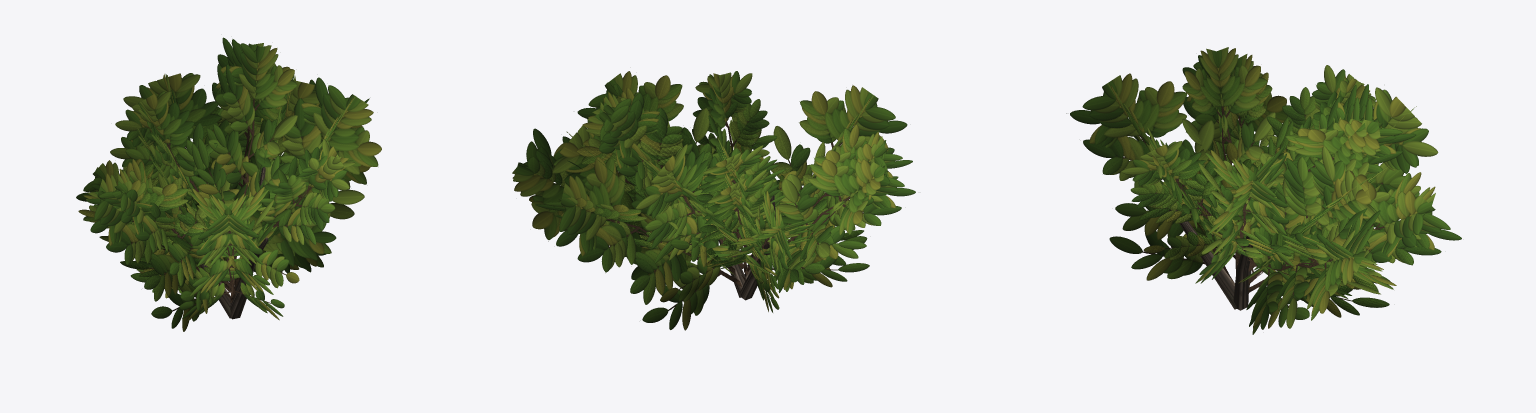
File: bush.gltf
3 renders of one model, left to right at view 1: azimuth 30°, elevation 25°; view 2: azimuth 150°, elevation 25°; view 3: azimuth 270°, elevation 25°, orthographic. The views are drawn at different scales.
Visible parts, largest first — view 1: bush; view 2: bush; view 3: bush.
Boxes of the visible parts, x1=… form: bush: x1=76, y1=37, x2=381, y2=331; bush: x1=512, y1=71, x2=915, y2=330; bush: x1=1066, y1=47, x2=1461, y2=334.
Bounding box in the file's own units: 2.29 × 1.7 × 2.19.
2 materials, 2 textured.
